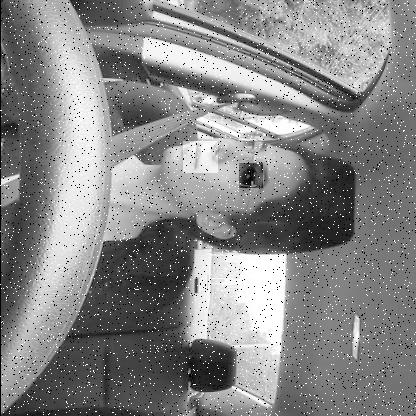seatbelt: (0, 125, 343, 259)
